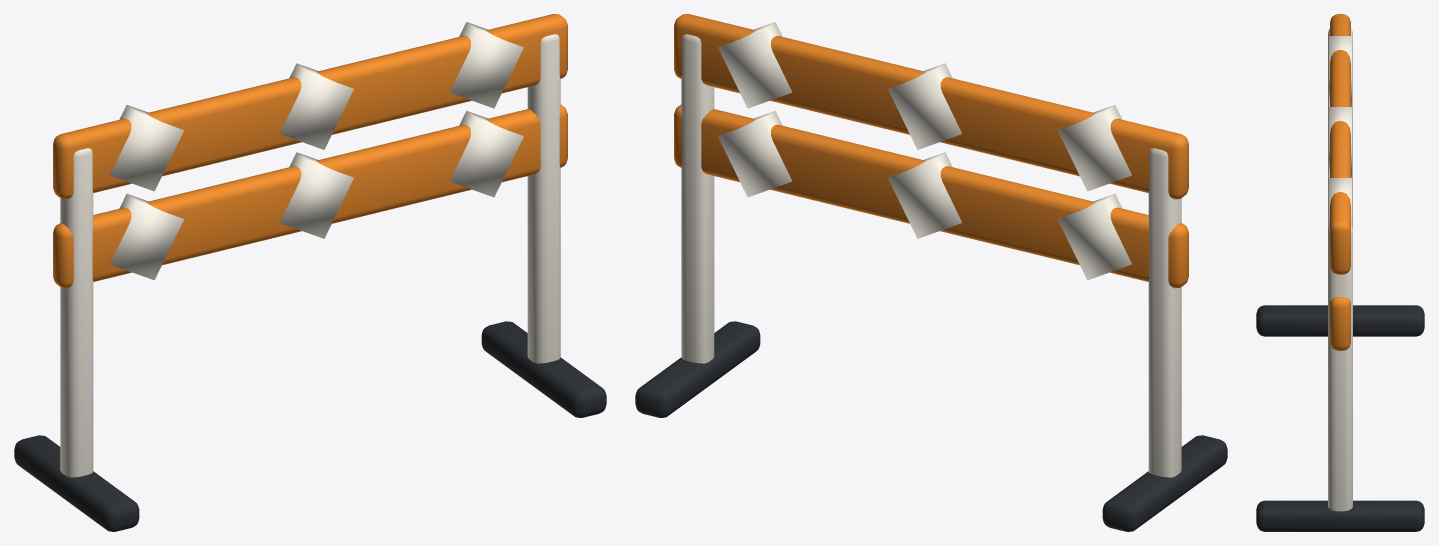
The model's file is prop_barrier.glb.
The picture shows the model from 3 angles, left to right: view 1: azimuth 30°, elevation 25°; view 2: azimuth 150°, elevation 25°; view 3: azimuth 270°, elevation 25°; orthographic projection. The views are drawn at different scales.
Parts seen in each view (by area): view 1: barrier; view 2: barrier; view 3: barrier.
Part boxes in pixels (x1,y1,x2,y2): barrier: [14, 14, 606, 531]; barrier: [635, 14, 1227, 531]; barrier: [1256, 14, 1424, 531].
Size of the model in its own units: 1.2 by 0.8406 by 0.4.
